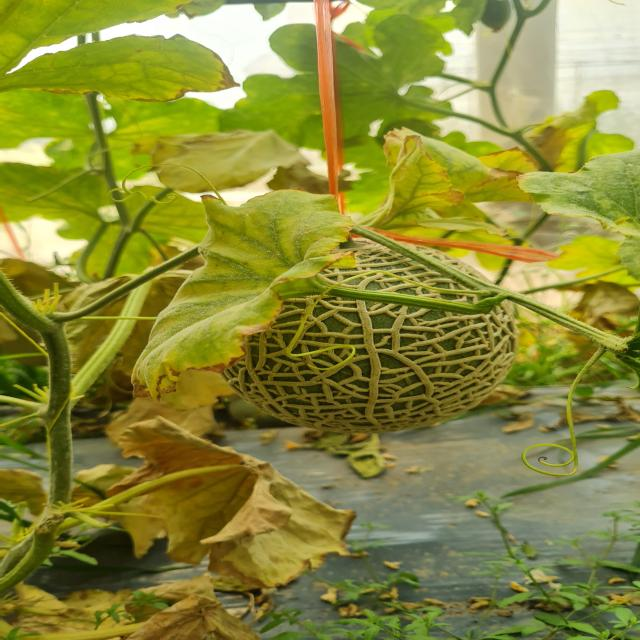melon: (222, 295, 516, 434), (322, 240, 478, 301)
